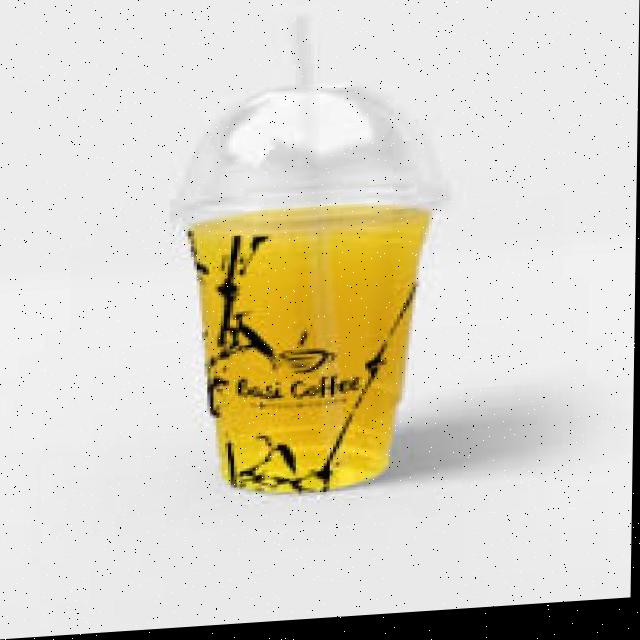cup: (160, 140, 463, 530)
